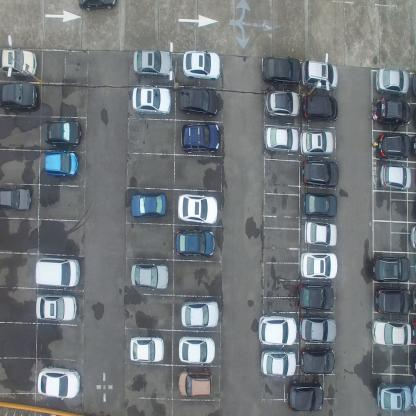car: (34, 258, 82, 289), (38, 365, 80, 399), (177, 191, 219, 224), (179, 85, 220, 118), (180, 122, 222, 154), (134, 48, 175, 80), (180, 299, 220, 331), (132, 86, 174, 116), (183, 48, 223, 79), (174, 228, 216, 257), (258, 314, 296, 346), (130, 262, 170, 292), (36, 292, 76, 322), (261, 55, 301, 85), (302, 58, 338, 91), (178, 336, 216, 367), (0, 47, 38, 78), (372, 317, 412, 346), (288, 380, 324, 412), (301, 159, 339, 189), (372, 253, 410, 283), (302, 92, 338, 123), (0, 82, 37, 112), (299, 251, 338, 279), (178, 369, 214, 399), (376, 380, 412, 410), (44, 152, 81, 181), (374, 286, 411, 315), (264, 89, 300, 118), (300, 315, 336, 344), (374, 67, 410, 96), (264, 124, 299, 153), (297, 283, 333, 311), (300, 346, 334, 375), (129, 337, 165, 364), (302, 130, 338, 157), (260, 350, 296, 377), (376, 99, 412, 126), (377, 132, 411, 160), (46, 119, 81, 146), (131, 194, 168, 219), (304, 220, 338, 247), (302, 192, 338, 217), (0, 185, 31, 213), (380, 162, 411, 190), (76, 0, 118, 14), (410, 225, 416, 250), (411, 348, 416, 378), (410, 69, 415, 99), (411, 318, 416, 345), (411, 103, 416, 129), (412, 380, 416, 408), (412, 287, 416, 314), (412, 134, 416, 160)
